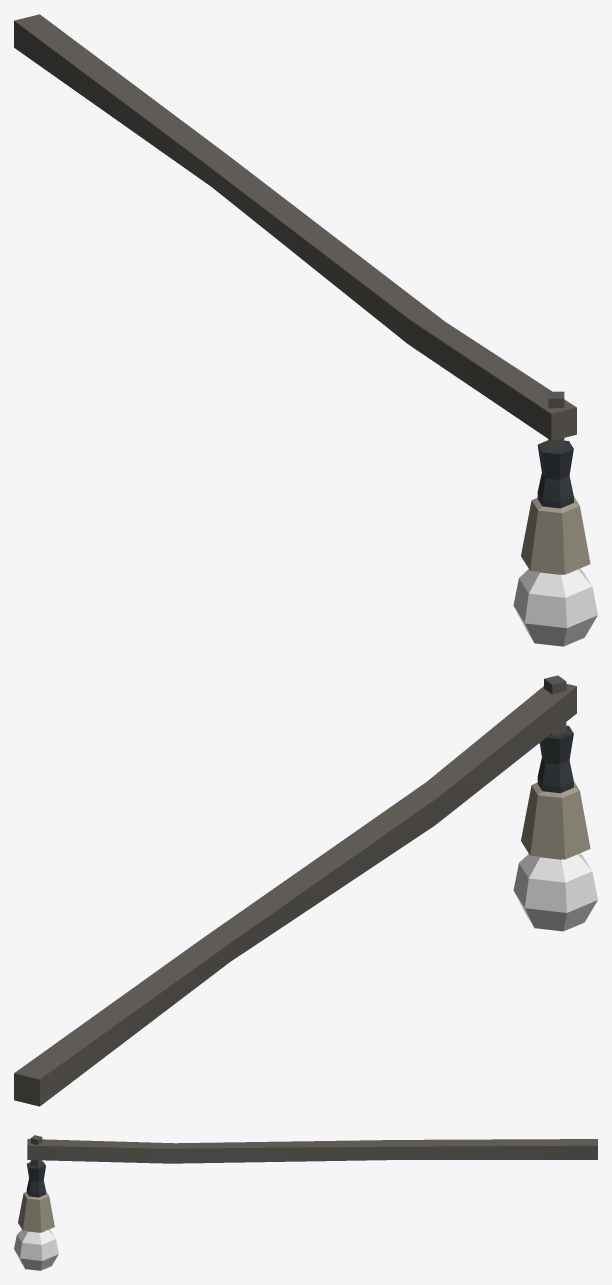
Rendered from SM_Prop_Street_Light_02.glb.
The picture shows the model from 3 angles, top to bottom: view 1: azimuth 30°, elevation 25°; view 2: azimuth 150°, elevation 25°; view 3: azimuth 270°, elevation 25°; orthographic projection. The views are drawn at different scales.
Parts seen in each view (by area): view 1: SM_Prop_Street_Light_02; view 2: SM_Prop_Street_Light_02; view 3: SM_Prop_Street_Light_02.
Boxes of the visible parts, <box> form: SM_Prop_Street_Light_02: <box>14,14,597,646</box>; SM_Prop_Street_Light_02: <box>14,675,597,1106</box>; SM_Prop_Street_Light_02: <box>14,1135,597,1270</box>.
Size of the model in its own units: 0.1418 by 0.4589 by 1.84.
1 material, 1 textured.
